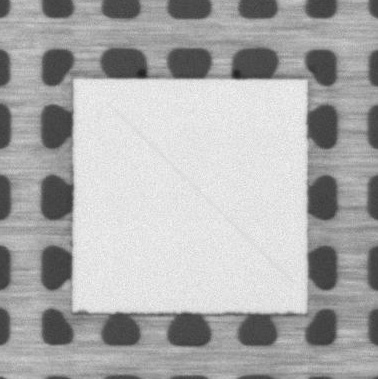DIE_CRACK: (107, 102, 291, 282)
